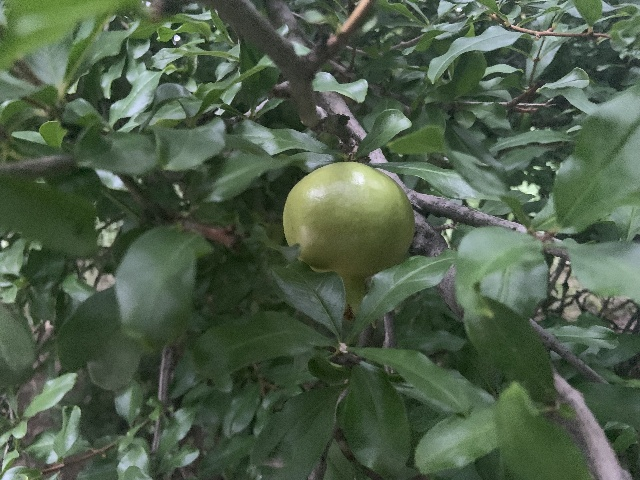mid-growth: (282, 161, 415, 320)
